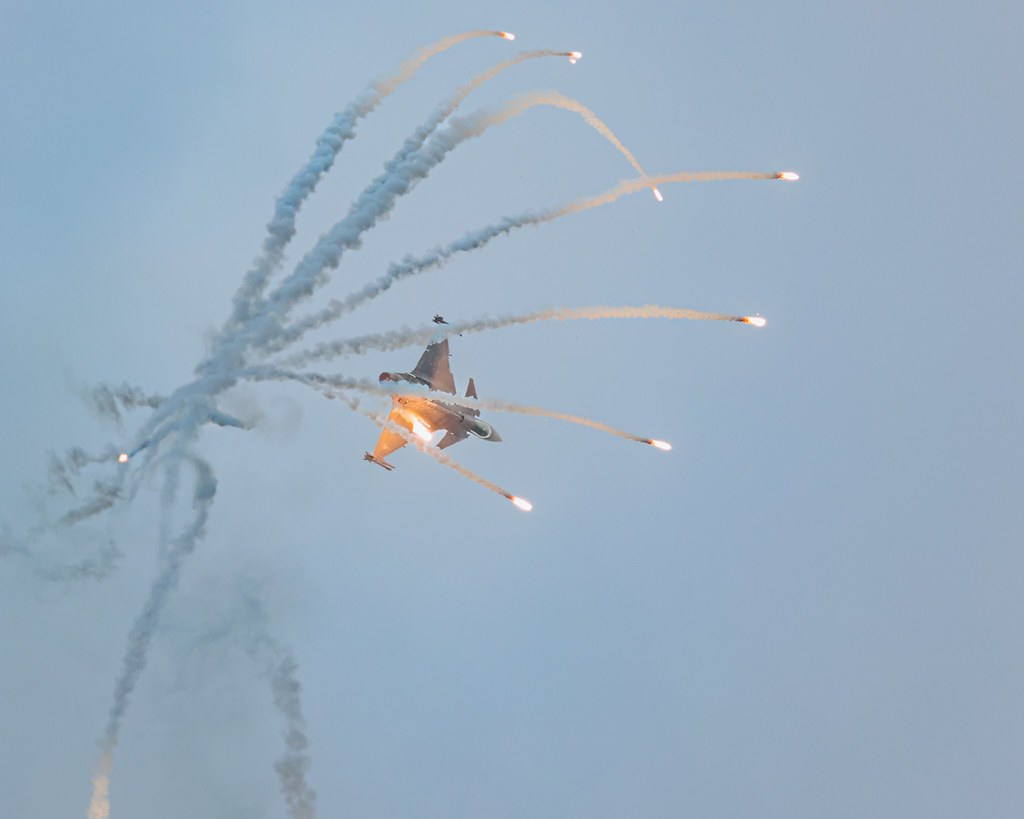JAS39: (362, 312, 507, 472)
